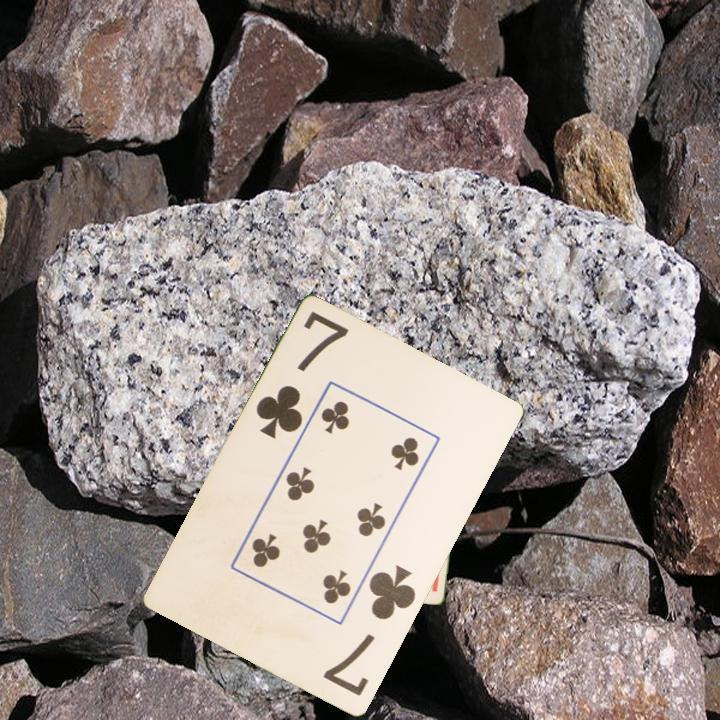7c: (320, 562, 419, 700), (252, 308, 352, 443)
